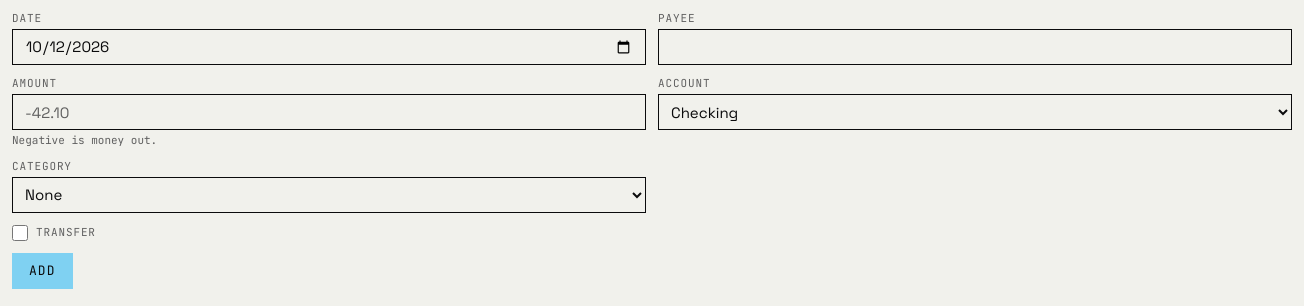
Test: transfer swaps the category select for a second account select
The width and height of the screenshot is (1304, 306).
Expected: the dropdown labelled "Category" is shown, left=12, top=177, right=646, bottom=213
Click the checkbox labelled "Transfer". click: (20, 233)
box: left=12, top=225, right=28, bottom=241
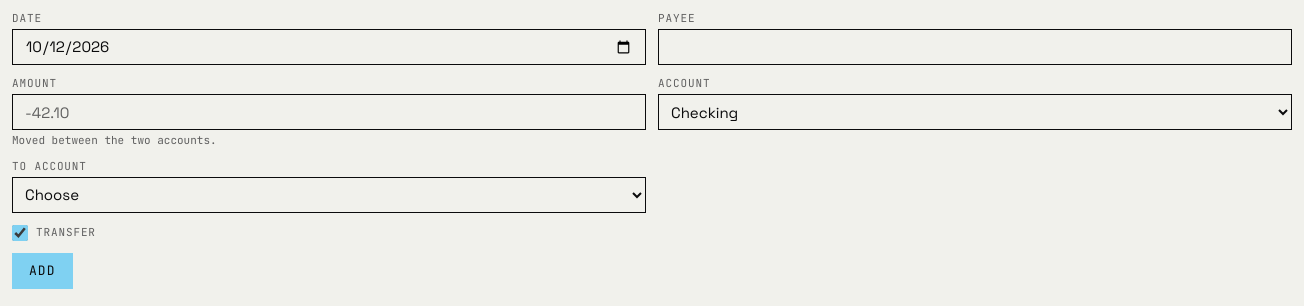
Expected: the dropdown labelled "To account" is shown, left=12, top=177, right=646, bottom=213
Expected: the label labelled "Category" is gone
